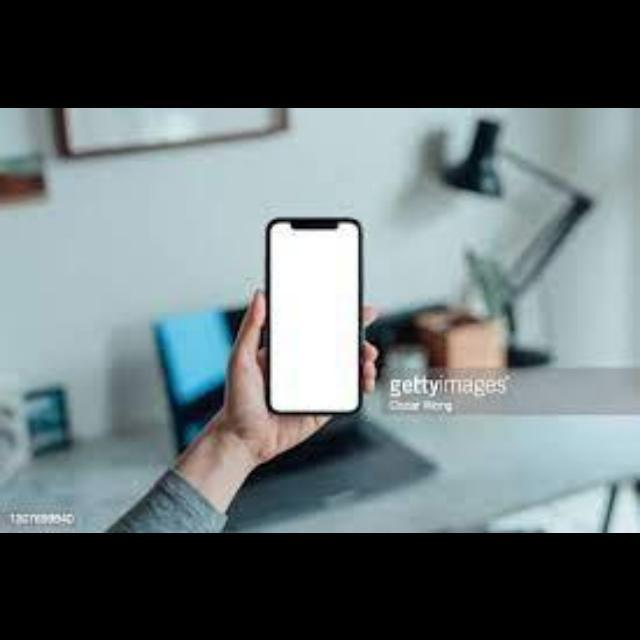phone: (267, 217, 360, 417)
